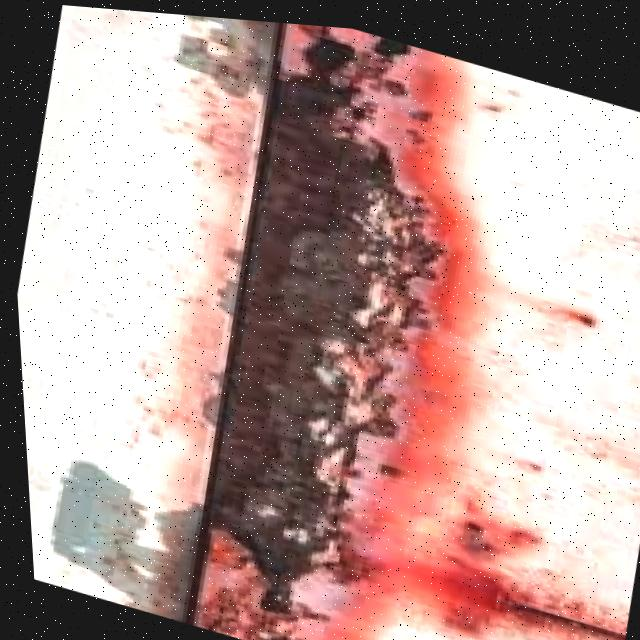corrosion: (137, 9, 507, 640), (440, 557, 623, 640)
